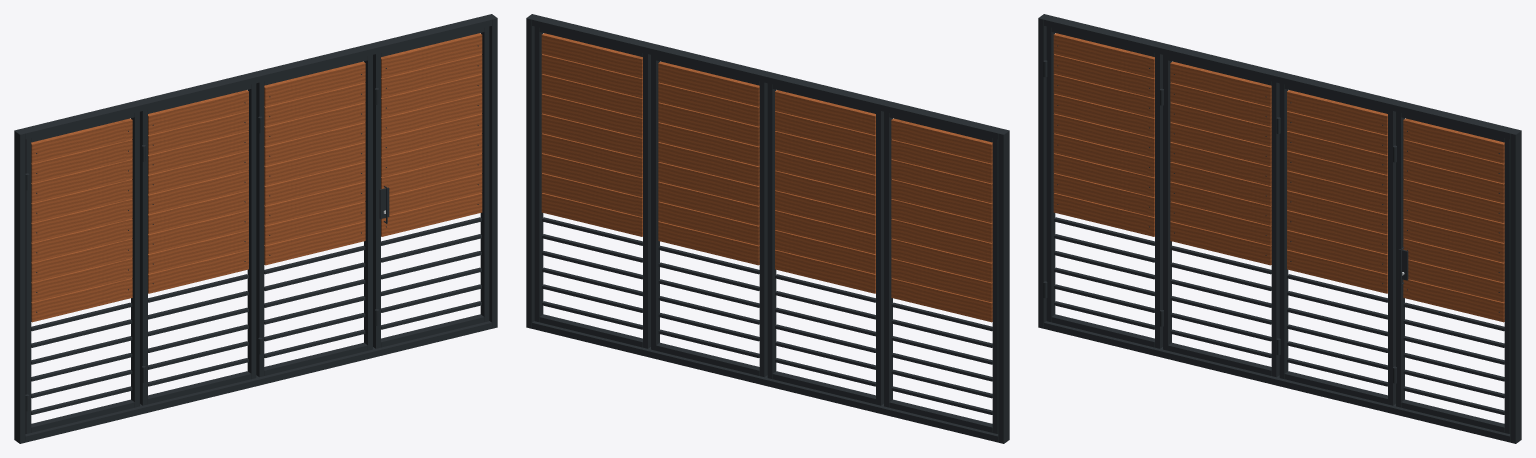
Rendered from black-frame-wood-finish-panel-gate-01.glb.
3 renders of one model, left to right at view 1: azimuth 30°, elevation 25°; view 2: azimuth 150°, elevation 25°; view 3: azimuth 330°, elevation 25°, orthographic.
Parts seen in each view (by area): view 1: Gate leaf 2 / Wood-look horizontal boards, Gate leaf 0 / Wood-look horizontal boards, Gate leaf 1 / Wood-look horizontal boards, Gate leaf 3 / Wood-look horizontal boards, Outer gate posts, Gate leaf 2 / Leaf frame, Gate leaf 1 / Leaf frame, Gate leaf 3 / Leaf frame, Gate leaf 0 / Leaf frame, Gate leaf 0 / Lower ventilation bars, Gate leaf 2 / Lower ventilation bars, Gate leaf 1 / Lower ventilation bars (+1 smaller); view 2: Gate leaf 2 / Wood-look horizontal boards, Gate leaf 0 / Wood-look horizontal boards, Gate leaf 3 / Wood-look horizontal boards, Gate leaf 1 / Wood-look horizontal boards, Outer gate posts, Gate leaf 2 / Leaf frame, Gate leaf 1 / Leaf frame, Gate leaf 3 / Leaf frame, Gate leaf 0 / Leaf frame, Gate leaf 0 / Lower ventilation bars, Gate leaf 2 / Lower ventilation bars, Gate leaf 1 / Lower ventilation bars (+1 smaller); view 3: Gate leaf 1 / Wood-look horizontal boards, Gate leaf 0 / Wood-look horizontal boards, Gate leaf 3 / Wood-look horizontal boards, Gate leaf 2 / Wood-look horizontal boards, Outer gate posts, Gate leaf 1 / Leaf frame, Gate leaf 2 / Leaf frame, Gate leaf 0 / Leaf frame, Gate leaf 3 / Leaf frame, Gate leaf 3 / Lower ventilation bars, Gate leaf 1 / Lower ventilation bars, Gate leaf 2 / Lower ventilation bars (+1 smaller).
Part boxes in pixels (<box>): Gate leaf 2 / Wood-look horizontal boards: <box>264,61,365,265</box>; Gate leaf 0 / Wood-look horizontal boards: <box>31,118,132,322</box>; Gate leaf 1 / Wood-look horizontal boards: <box>148,90,248,293</box>; Gate leaf 3 / Wood-look horizontal boards: <box>381,33,482,236</box>; Outer gate posts: <box>14,14,497,443</box>; Gate leaf 2 / Leaf frame: <box>256,55,372,377</box>; Gate leaf 1 / Leaf frame: <box>140,83,256,405</box>; Gate leaf 3 / Leaf frame: <box>373,26,489,348</box>; Gate leaf 0 / Leaf frame: <box>25,111,139,433</box>; Gate leaf 0 / Lower ventilation bars: <box>31,302,132,414</box>; Gate leaf 2 / Lower ventilation bars: <box>264,245,365,357</box>; Gate leaf 1 / Lower ventilation bars: <box>148,274,248,386</box>; Gate leaf 2 / Wood-look horizontal boards: <box>658,61,759,265</box>; Gate leaf 0 / Wood-look horizontal boards: <box>891,118,992,322</box>; Gate leaf 3 / Wood-look horizontal boards: <box>541,33,642,236</box>; Gate leaf 1 / Wood-look horizontal boards: <box>775,90,875,293</box>; Outer gate posts: <box>526,14,1009,443</box>; Gate leaf 2 / Leaf frame: <box>651,55,767,377</box>; Gate leaf 1 / Leaf frame: <box>767,83,883,405</box>; Gate leaf 3 / Leaf frame: <box>534,26,650,348</box>; Gate leaf 0 / Leaf frame: <box>884,111,998,433</box>; Gate leaf 0 / Lower ventilation bars: <box>891,302,992,414</box>; Gate leaf 2 / Lower ventilation bars: <box>658,245,759,357</box>; Gate leaf 1 / Lower ventilation bars: <box>775,274,875,386</box>; Gate leaf 1 / Wood-look horizontal boards: <box>1170,61,1271,265</box>; Gate leaf 0 / Wood-look horizontal boards: <box>1053,33,1154,236</box>; Gate leaf 3 / Wood-look horizontal boards: <box>1403,118,1504,322</box>; Gate leaf 2 / Wood-look horizontal boards: <box>1287,90,1387,293</box>; Outer gate posts: <box>1038,14,1521,443</box>; Gate leaf 1 / Leaf frame: <box>1163,55,1279,377</box>; Gate leaf 2 / Leaf frame: <box>1279,83,1395,405</box>; Gate leaf 0 / Leaf frame: <box>1046,26,1162,348</box>; Gate leaf 3 / Leaf frame: <box>1396,111,1510,433</box>; Gate leaf 3 / Lower ventilation bars: <box>1403,302,1504,414</box>; Gate leaf 1 / Lower ventilation bars: <box>1170,245,1271,357</box>; Gate leaf 2 / Lower ventilation bars: <box>1287,274,1387,386</box>.
Bounding box in the file's own units: 3.28 × 2.03 × 0.098.
3 materials, 1 textured.
